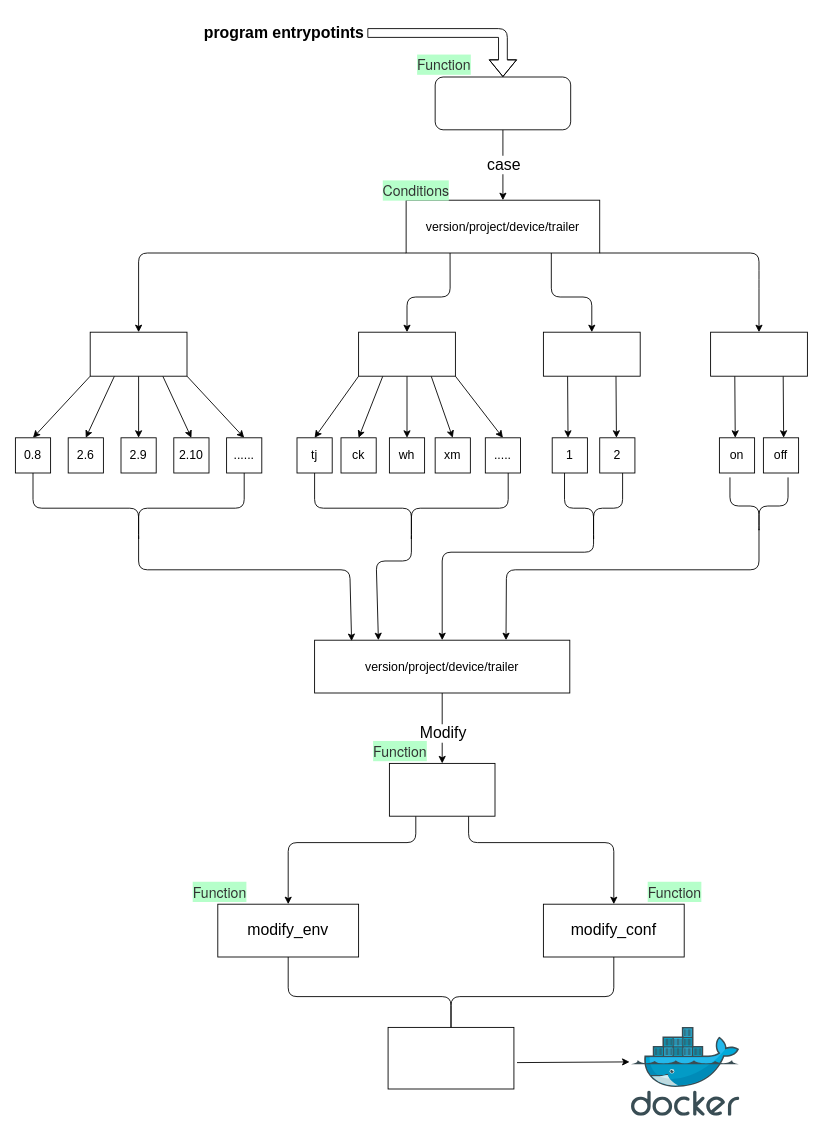
Some shapes in this 823 by 1131 pixel diagram are drawn without their labels. The shapes that lost their labels are listed below. From the top down, each one's centre as x and y in pixels, then its label:
At (502,103): "main()".
At (138,353): "version".
At (406,353): "project".
At (591,353): "device".
At (758,353): "trailer".
At (442,789): "adjust_param".
At (450,1058): "start_container".
